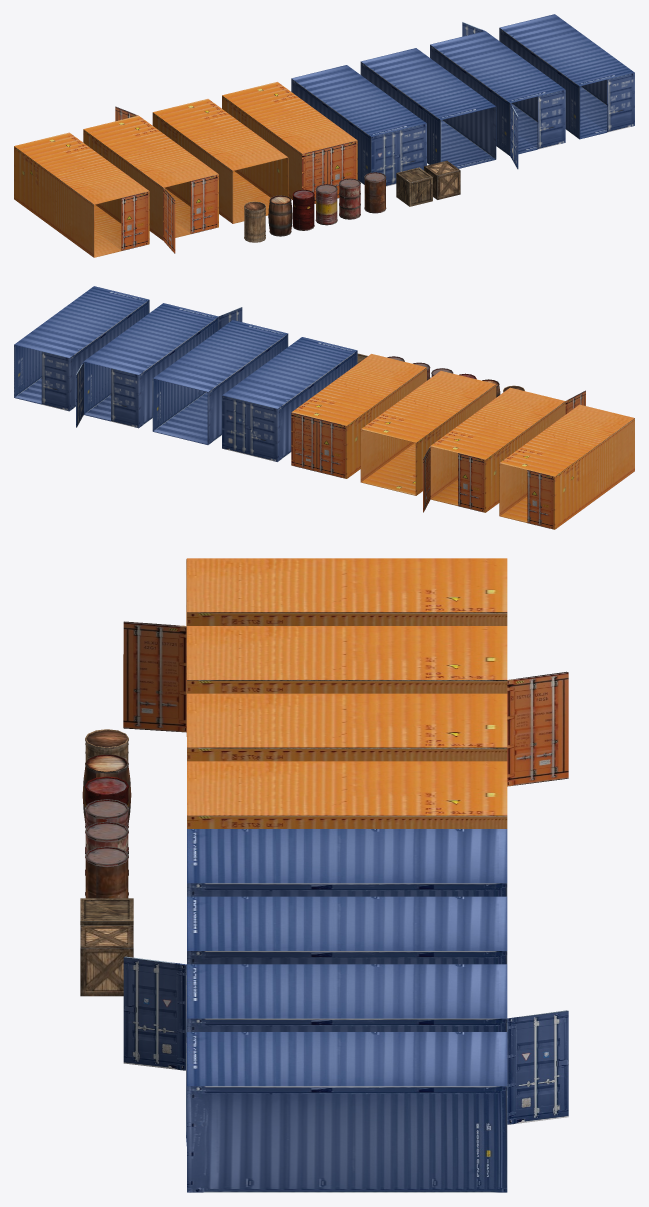
Rendered from obj_cont.glb.
The picture shows the model from 3 angles, top to bottom: view 1: azimuth 30°, elevation 25°; view 2: azimuth 150°, elevation 25°; view 3: azimuth 270°, elevation 25°; orthographic projection. The views are drawn at different scales.
Parts seen in each view (by area): view 1: body|container, body|barrels; view 2: body|container, body|barrels; view 3: body|container, body|barrels.
Boxes of the visible parts, left/top/right/bottom form: body|container: left=14, top=14, right=634, bottom=257; body|barrels: left=244, top=160, right=460, bottom=242; body|container: left=14, top=286, right=634, bottom=529; body|barrels: left=357, top=353, right=524, bottom=397; body|container: left=123, top=558, right=568, bottom=1192; body|barrels: left=80, top=729, right=133, bottom=996.
Bounding box in the file's own units: 27.61 × 2.6 × 10.8.
Materials: 2 (2 with a texture image).
